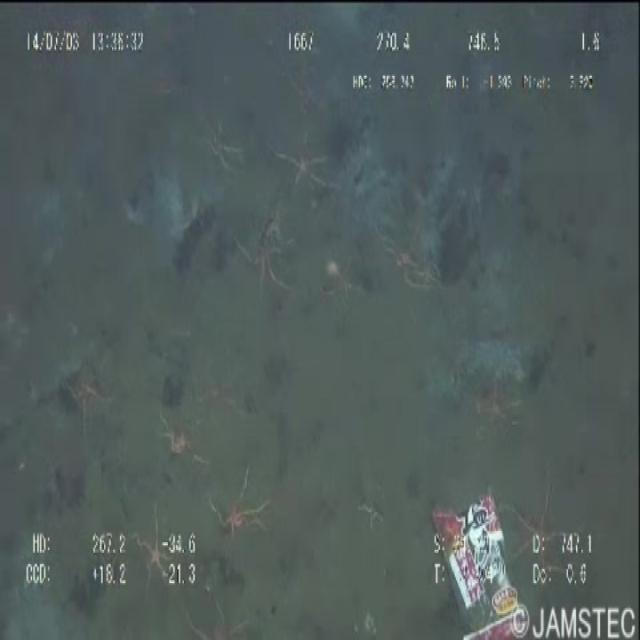Litter: (430, 481, 534, 640)
